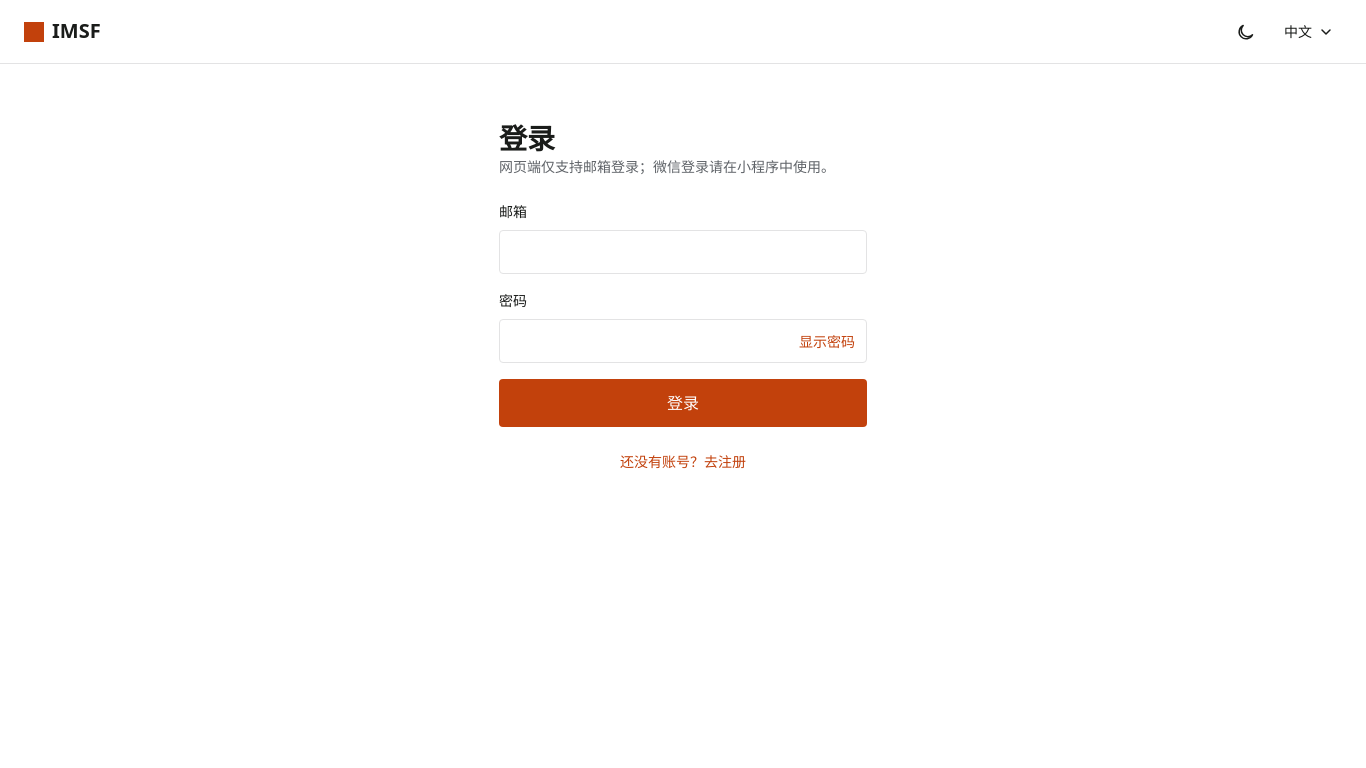
Test: error mapping › 401 shows the exact banner, keeps the email, clears only the password
Type "a@b.c" into the field labelled "邮箱".
click(683, 252); type("a@b.c")  # box [499,230,867,274]
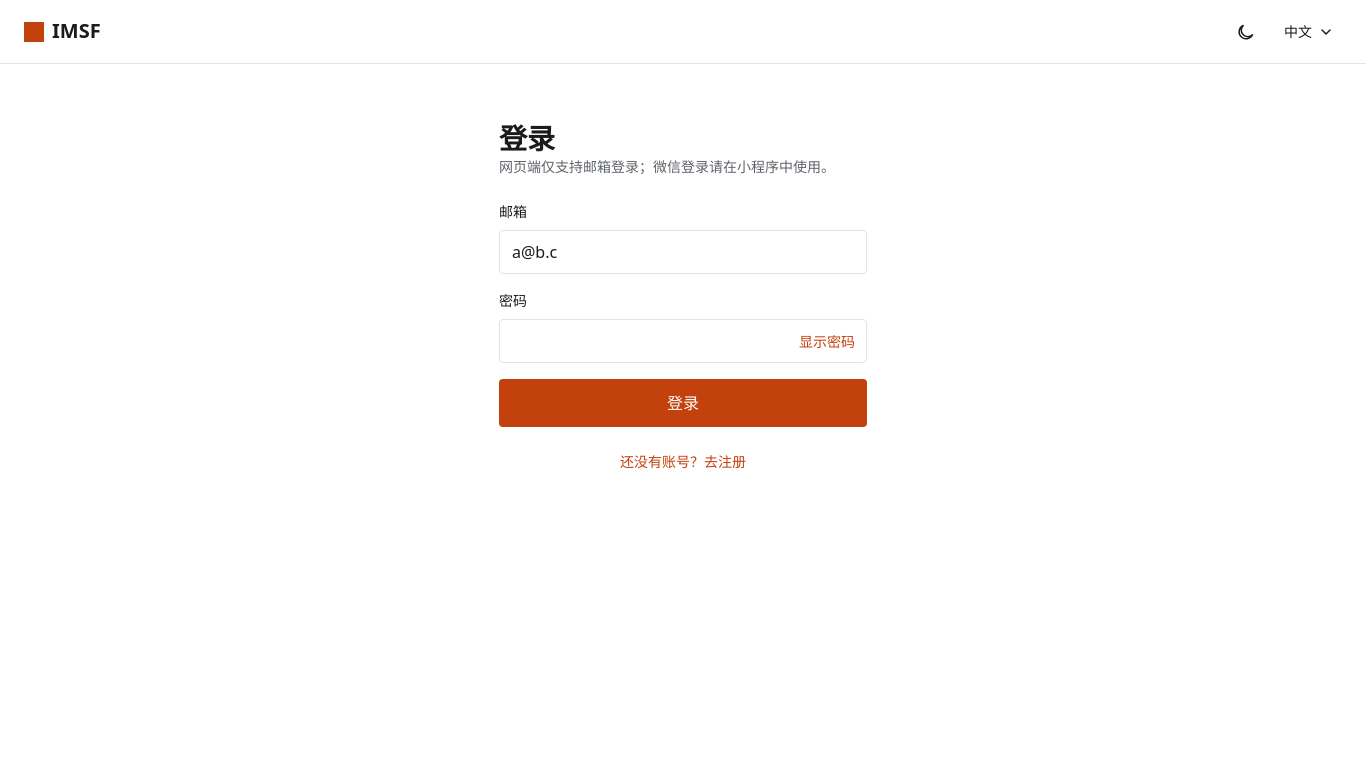
Type "wrongpass" into the password field labelled "密码".
click(683, 341); type("wrongpass")  # box [499,319,867,363]
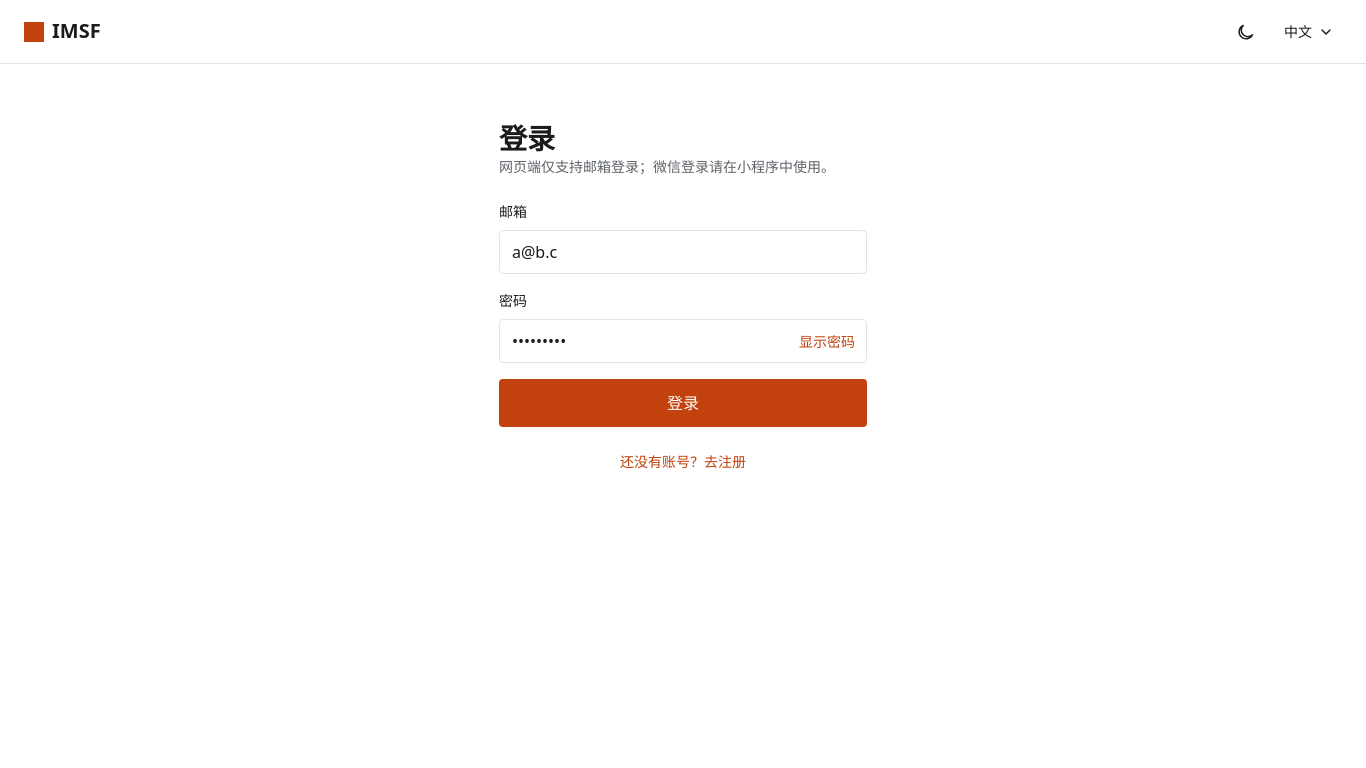
Click the button "登录".
click(683, 403)  # box [499,379,867,427]
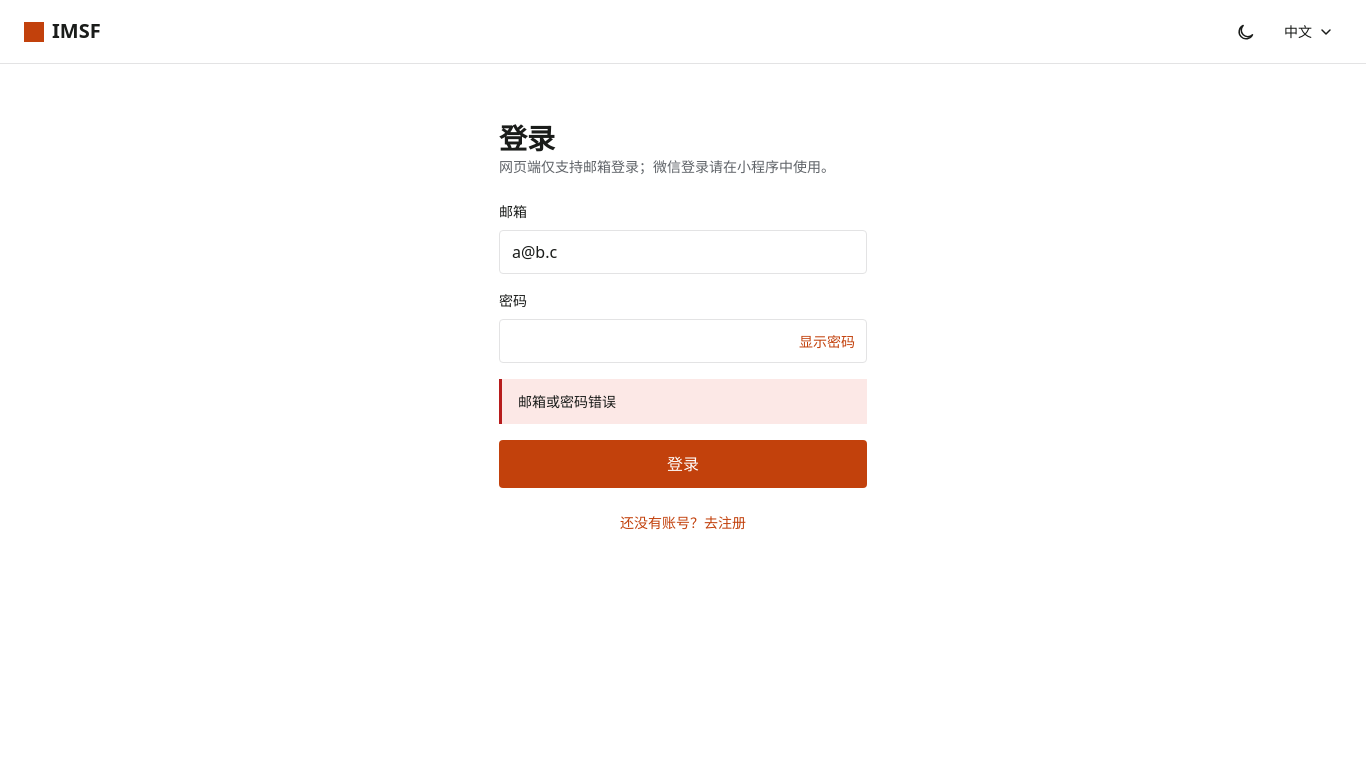
Result: the message reads "邮箱或密码错误" at [518,392,616,411]
Result: the password field labelled "密码" is empty at [499,319,867,363]
